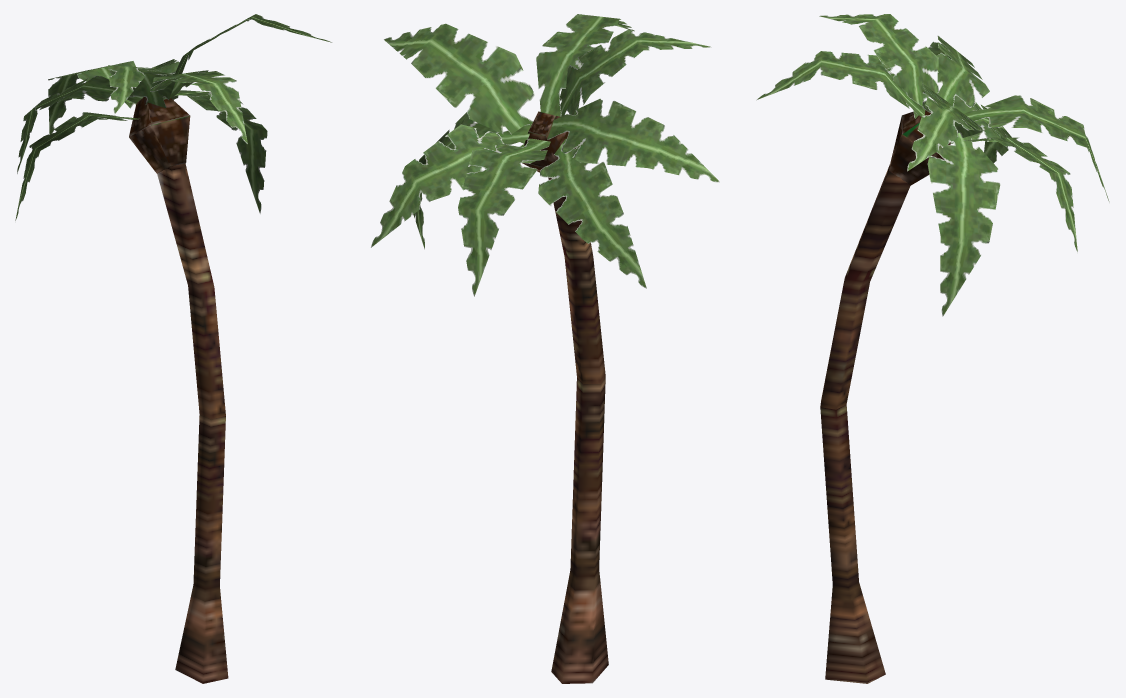
Rendered from PalmTree_02.glb.
3 views of the same model, side by side, from view 1: azimuth 30°, elevation 25°; view 2: azimuth 150°, elevation 25°; view 3: azimuth 270°, elevation 25° (orthographic). The views are drawn at different scales.
Visible parts, largest first — view 1: PALMTREE_02; view 2: PALMTREE_02; view 3: PALMTREE_02.
Boxes of the visible parts, x1,y1,x2,y2 form: PALMTREE_02: [15, 14, 332, 683]; PALMTREE_02: [371, 14, 719, 683]; PALMTREE_02: [756, 14, 1109, 683].
Size of the model in its own units: 3.42 by 6.24 by 3.26.
Materials: 2 (2 with a texture image).
